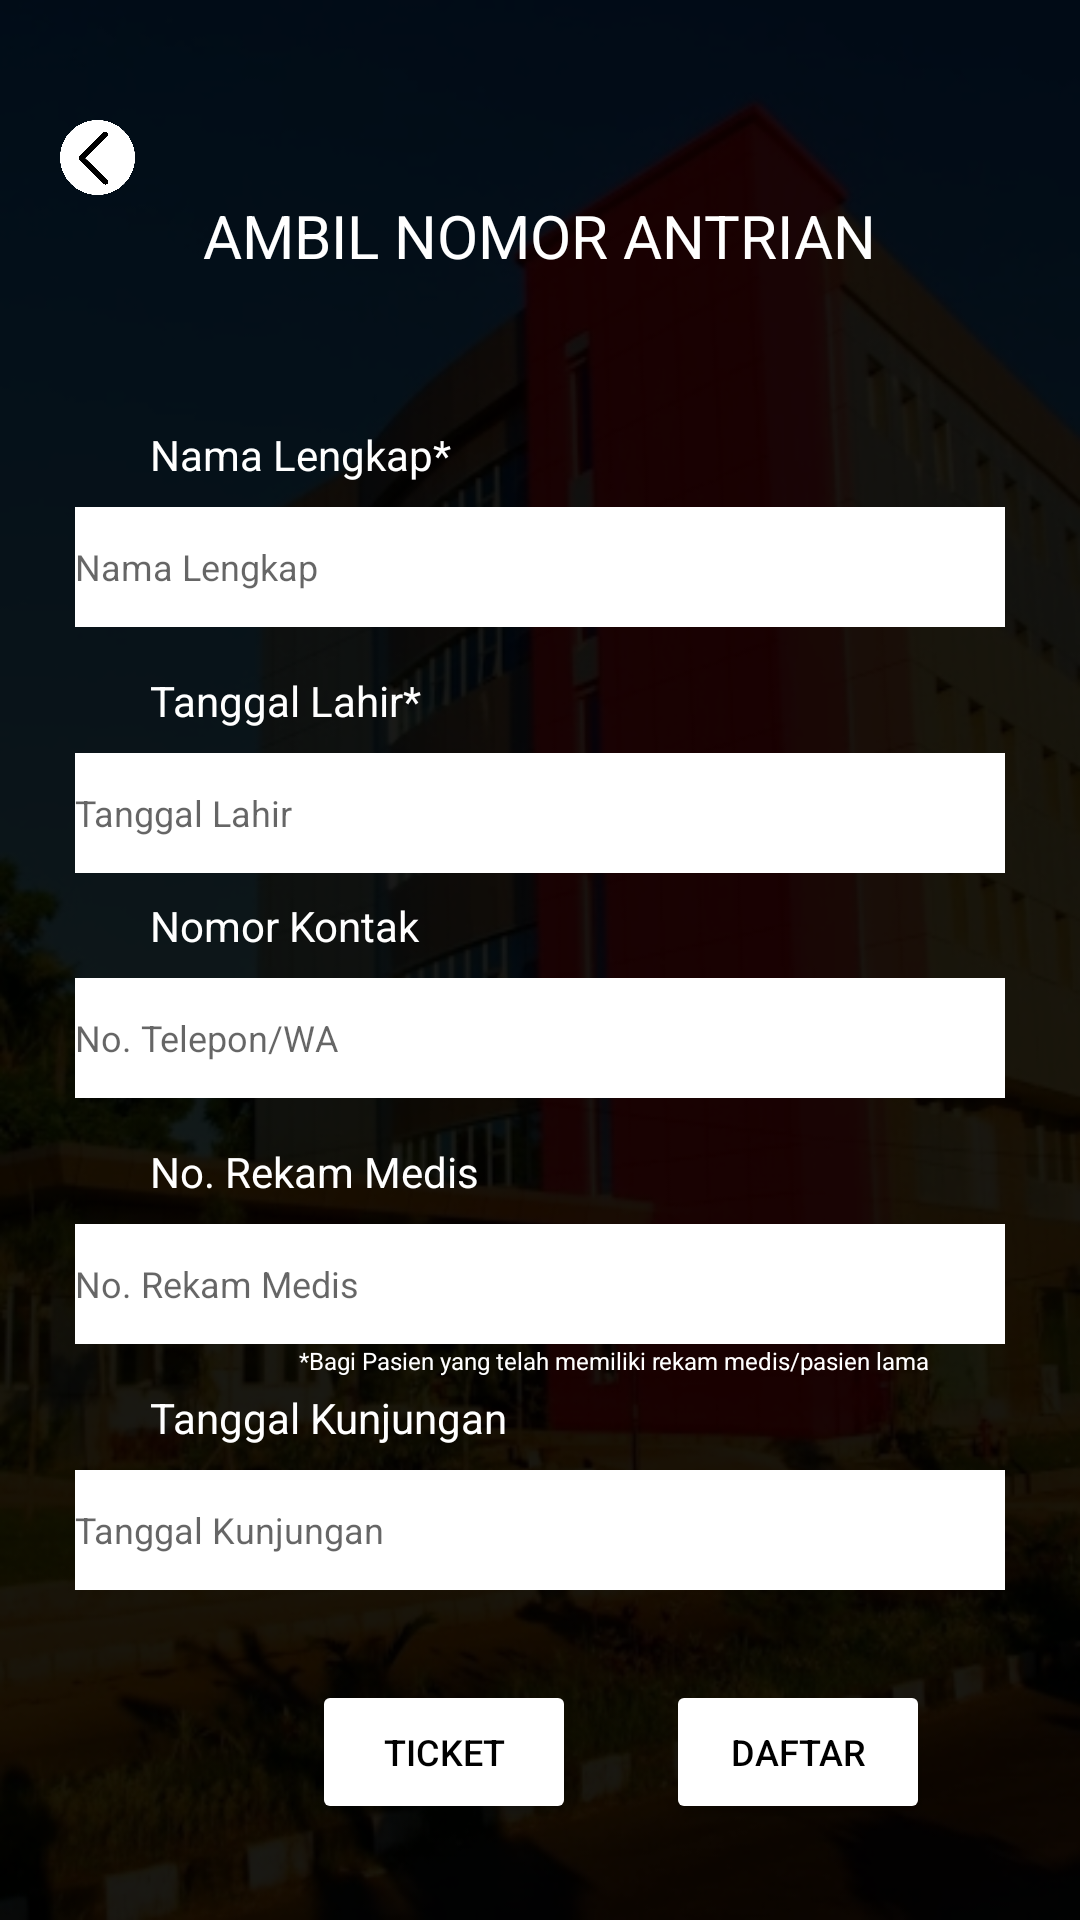

Icons on this 1080 x 1920 Android screen, each with the point to tap as (x=x, y=y):
back: (x=97, y=157)
